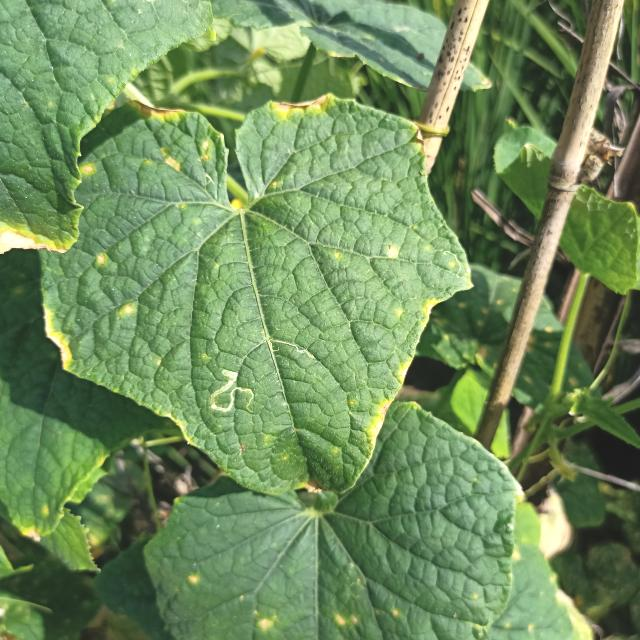disease_cucumber: (162, 132, 218, 171), (395, 298, 441, 328), (384, 242, 402, 262), (93, 251, 107, 269), (122, 303, 136, 317)
